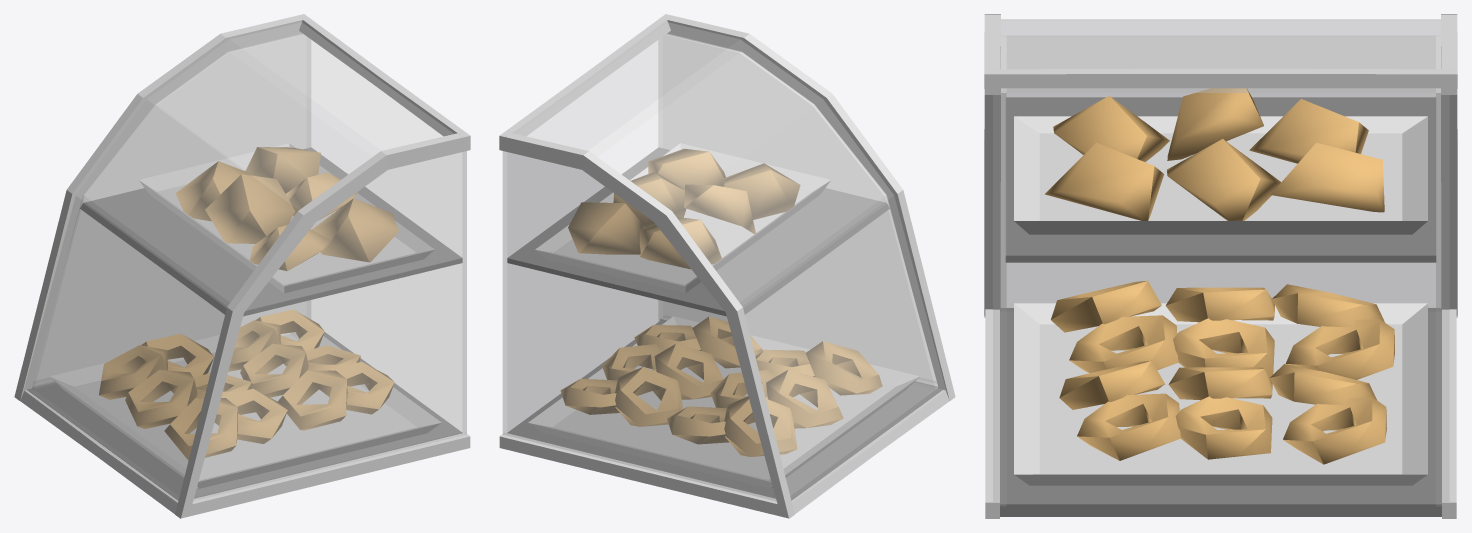
File: displaycase.fbx
3 renders of one model, left to right at view 1: azimuth 30°, elevation 25°; view 2: azimuth 150°, elevation 25°; view 3: azimuth 270°, elevation 25°, orthographic. The views are drawn at different scales.
Visible parts, largest first — view 1: frontglass, sideglass.001, sideglass, beamsfront, botplate, topplank, topplate, botplank, beamsside, b2, b4, beambot.001 (+17 smaller); view 2: frontglass, sideglass, sideglass.001, beamsfront, botplate, topplank, topplate, botplank, beamsside, b5, beambot.001, d1 (+17 smaller); view 3: frontglass, botplate, topplate, topplank, botplank, beamsfront, beambot.001, beamsside, sideglass, sideglass.001, b4, b6 (+16 smaller).
Boxes of the visible parts, x1,y1,x2,y2 form: frontglass: (24, 22, 453, 503); sideglass.001: (194, 151, 466, 500); sideglass: (32, 34, 310, 387); beamsfront: (14, 14, 470, 518); botplate: (50, 332, 441, 488); topplank: (80, 147, 462, 316); topplate: (139, 143, 434, 293); botplank: (27, 332, 462, 500); beamsside: (31, 315, 470, 518); b2: (205, 174, 294, 243); b4: (312, 198, 398, 262); beambot.001: (298, 14, 469, 136); frontglass: (516, 22, 945, 503); sideglass: (502, 151, 775, 500); sideglass.001: (658, 34, 936, 383); beamsfront: (499, 14, 955, 518); botplate: (528, 316, 919, 488); topplank: (507, 147, 889, 316); topplate: (535, 143, 830, 293); botplank: (507, 321, 942, 500); beamsside: (499, 315, 938, 518); b5: (568, 202, 644, 254); beambot.001: (500, 14, 671, 136); d1: (615, 367, 682, 426); frontglass: (993, 19, 1448, 311); botplate: (1014, 303, 1427, 485); topplate: (1014, 116, 1427, 234); topplank: (1005, 97, 1436, 262); botplank: (1000, 308, 1441, 516); beamsfront: (984, 14, 1457, 317); beambot.001: (986, 68, 1455, 88); beamsside: (985, 309, 1456, 518); sideglass: (1436, 36, 1449, 506); sideglass.001: (993, 36, 1006, 506); b4: (1045, 142, 1164, 220); b6: (1167, 139, 1281, 220).
Size of the model in its own units: 209 by 215 by 208.
